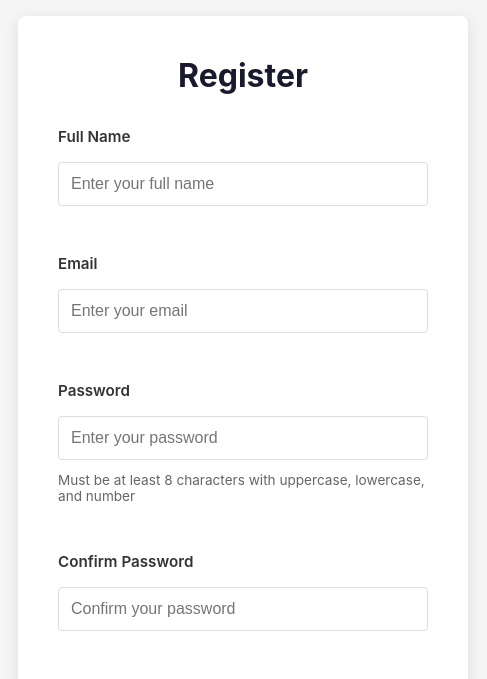
Test: RegisterForm › validates short name
Type "A" into the field labelled "Full Name". click: (243, 184)
box: [58,162,428,206]
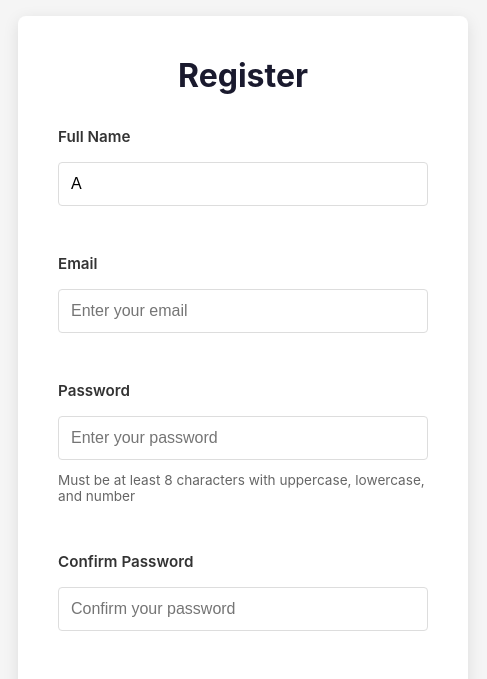
Type "test@example.com" into the field labelled "Email". click: (243, 311)
box: [58,289,428,333]
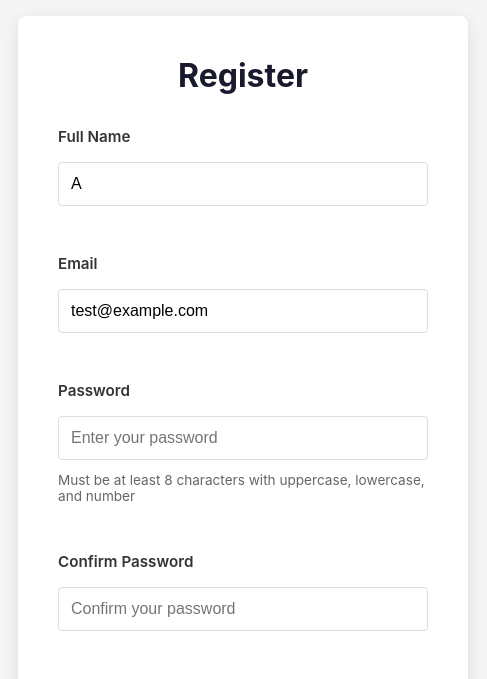
Type "Password123" into the password field labelled "Password". click: (243, 438)
box: [58,416,428,460]
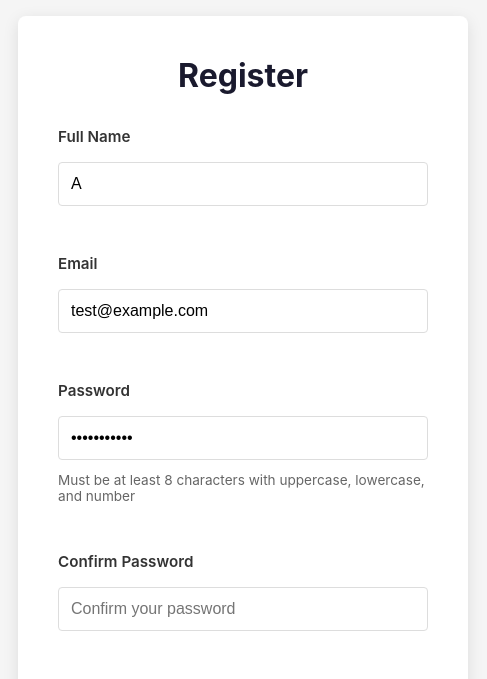
Type "Password123" into the password field labelled "Confirm Password". click: (243, 609)
box: [58,587,428,631]
(page scrolled)
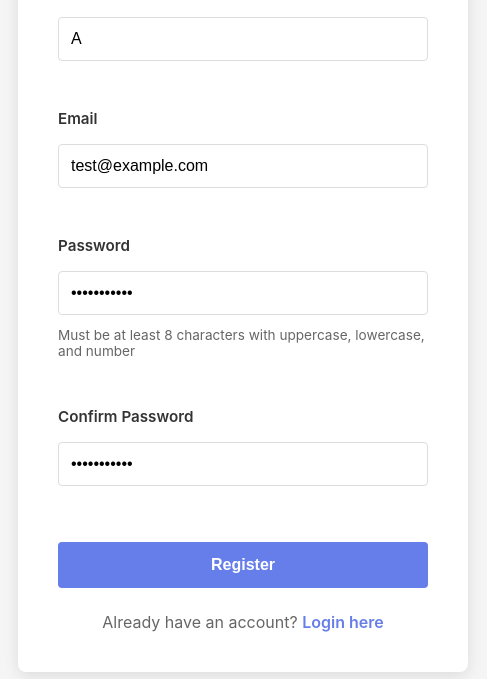
Click the button "Register". click: (243, 565)
box: [58,542,428,588]
(page scrolled)
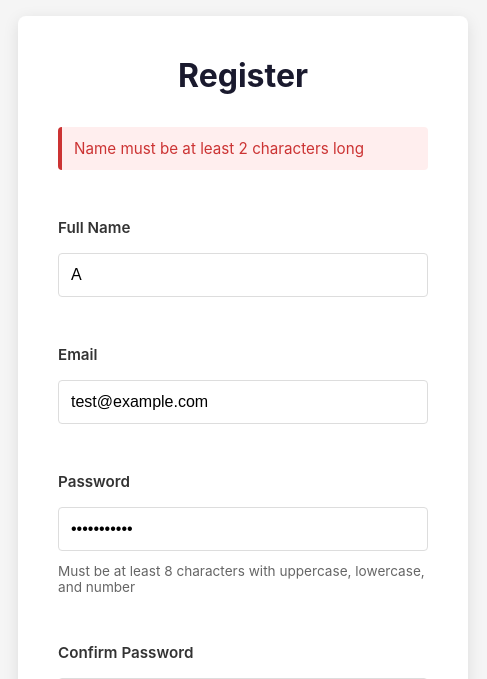
Check: the text "Name must be at least 2 characters long" is shown, box [58,127,428,170]
